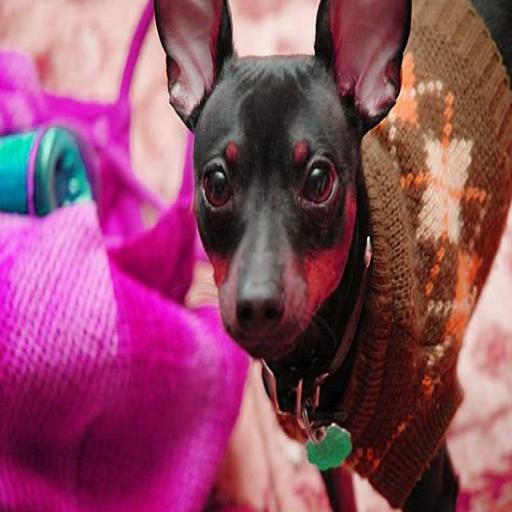dog_face: (149, 0, 412, 369)
